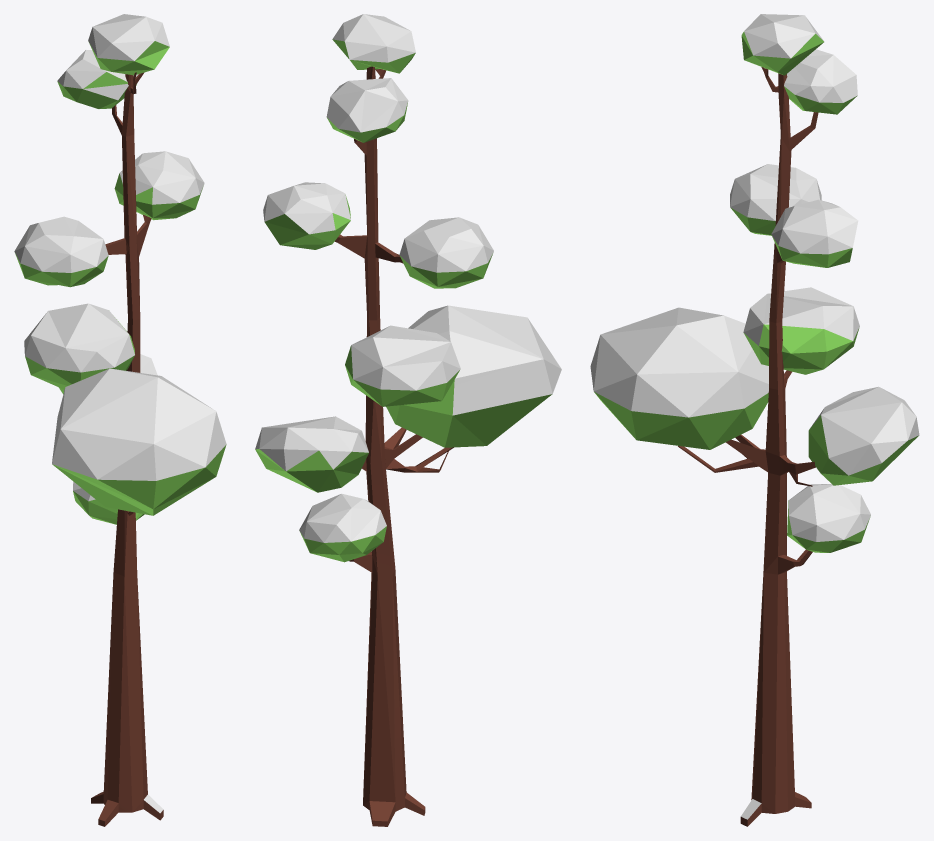
The model's file is SM_WinterTree_B.fbx.
The picture shows the model from 3 angles, left to right: view 1: azimuth 30°, elevation 25°; view 2: azimuth 150°, elevation 25°; view 3: azimuth 270°, elevation 25°; orthographic projection.
Parts seen in each view (by area): view 1: SM_WinterTree_B; view 2: SM_WinterTree_B; view 3: SM_WinterTree_B.
Boxes of the visible parts, box(x1,y1,x2,y2) form: SM_WinterTree_B: box(14, 14, 226, 826); SM_WinterTree_B: box(255, 14, 561, 826); SM_WinterTree_B: box(590, 14, 919, 826).
Bounding box in the file's own units: 103 × 365 × 136.
